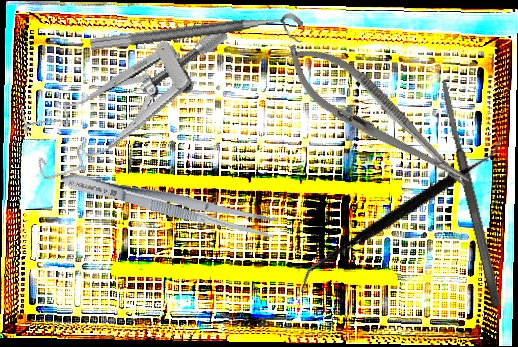Dressing Forceps: (59, 166, 280, 242)
Fixation Ring: (89, 11, 306, 69)
Needle Holder: (272, 28, 483, 206)
Spatula Surgical: (298, 84, 506, 343), (438, 79, 503, 308)
Speculum: (11, 21, 253, 184)
